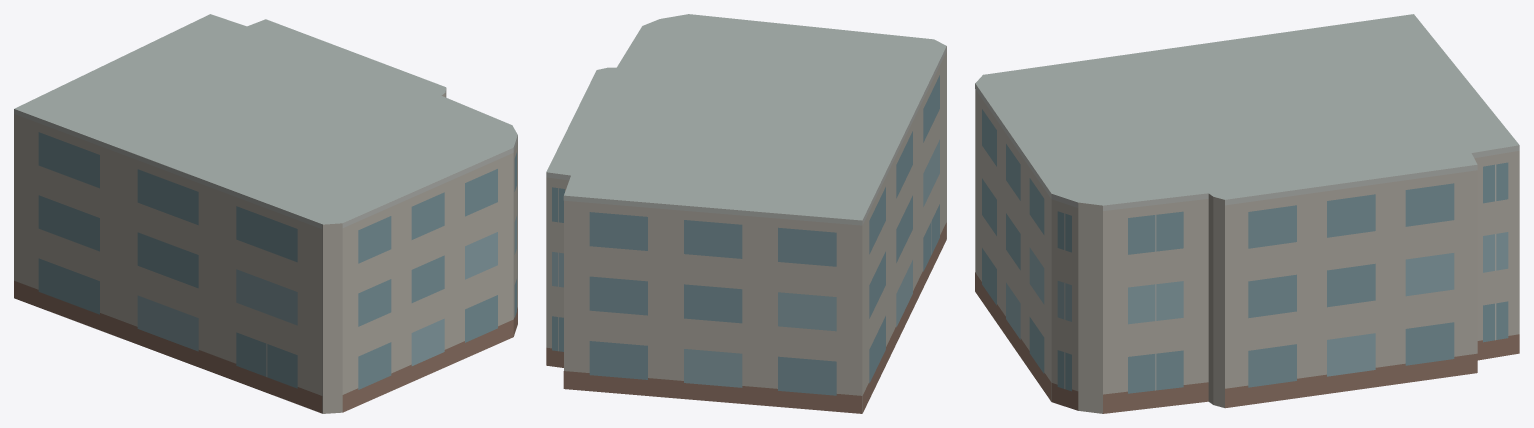
Rendered from survey-upis-33029098.glb.
The picture shows the model from 3 angles, left to right: view 1: azimuth 30°, elevation 25°; view 2: azimuth 150°, elevation 25°; view 3: azimuth 270°, elevation 25°; orthographic projection. The views are drawn at different scales.
Parts seen in each view (by area): view 1: survey-upis-33029098.tmp; view 2: survey-upis-33029098.tmp; view 3: survey-upis-33029098.tmp.
Part boxes in pixels (box(x1,y1,x2,y2)): survey-upis-33029098.tmp: box(14, 14, 517, 413); survey-upis-33029098.tmp: box(546, 14, 946, 413); survey-upis-33029098.tmp: box(975, 14, 1519, 413).
Bounding box in the file's own units: 18.06 × 9.15 × 21.69.
